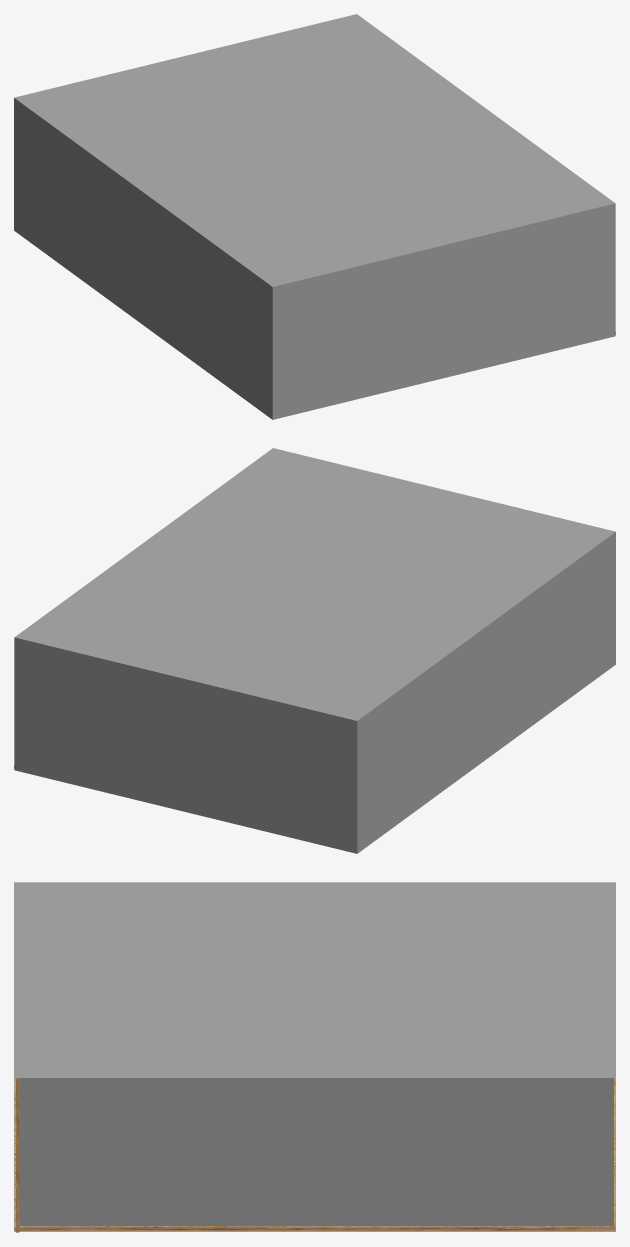
Rendered from room3.fbx.
The picture shows the model from 3 angles, top to bottom: view 1: azimuth 30°, elevation 25°; view 2: azimuth 150°, elevation 25°; view 3: azimuth 270°, elevation 25°; orthographic projection. The views are drawn at different scales.
Parts seen in each view (by area): view 1: room; view 2: room; view 3: room, card_board2, card_board1.
Part boxes in pixels (left/top/right/bottom): room: left=14, top=14, right=615, bottom=419; room: left=14, top=448, right=615, bottom=853; room: left=14, top=882, right=615, bottom=1231; card_board2: left=14, top=1077, right=615, bottom=1230; card_board1: left=16, top=1077, right=19, bottom=1232.
Bounding box in the file's own units: 1447 × 536 × 1887.
Materials: 3 (1 with a texture image).
